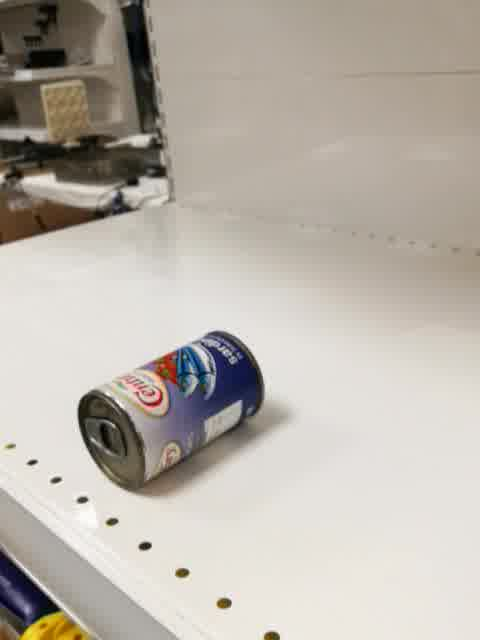sardine: (75, 331, 265, 492)
